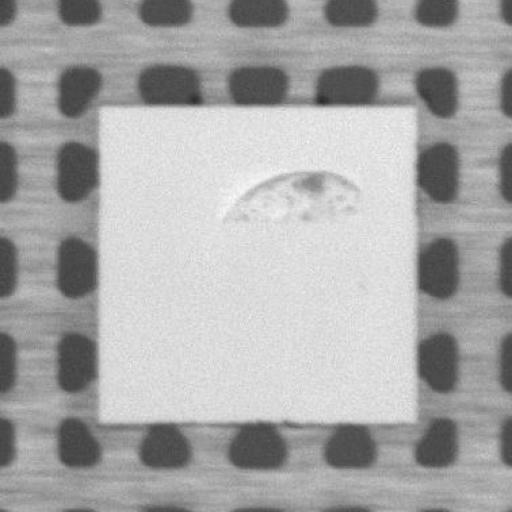DIE_INK: (209, 160, 366, 227)
